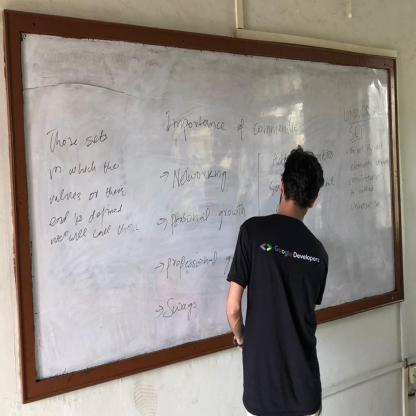Handwritten text: (160, 99, 306, 146), (169, 193, 254, 238), (37, 192, 131, 232), (43, 218, 143, 250), (42, 112, 115, 154), (337, 88, 389, 140), (162, 248, 239, 282), (171, 155, 230, 195), (40, 152, 123, 180), (264, 171, 339, 200), (44, 180, 129, 204), (345, 182, 387, 222), (161, 289, 199, 333), (273, 146, 339, 170), (340, 131, 387, 157), (347, 155, 393, 173), (341, 168, 379, 184)
Lecturer: (223, 144, 340, 382)
Whiteboard: (17, 17, 402, 384)
